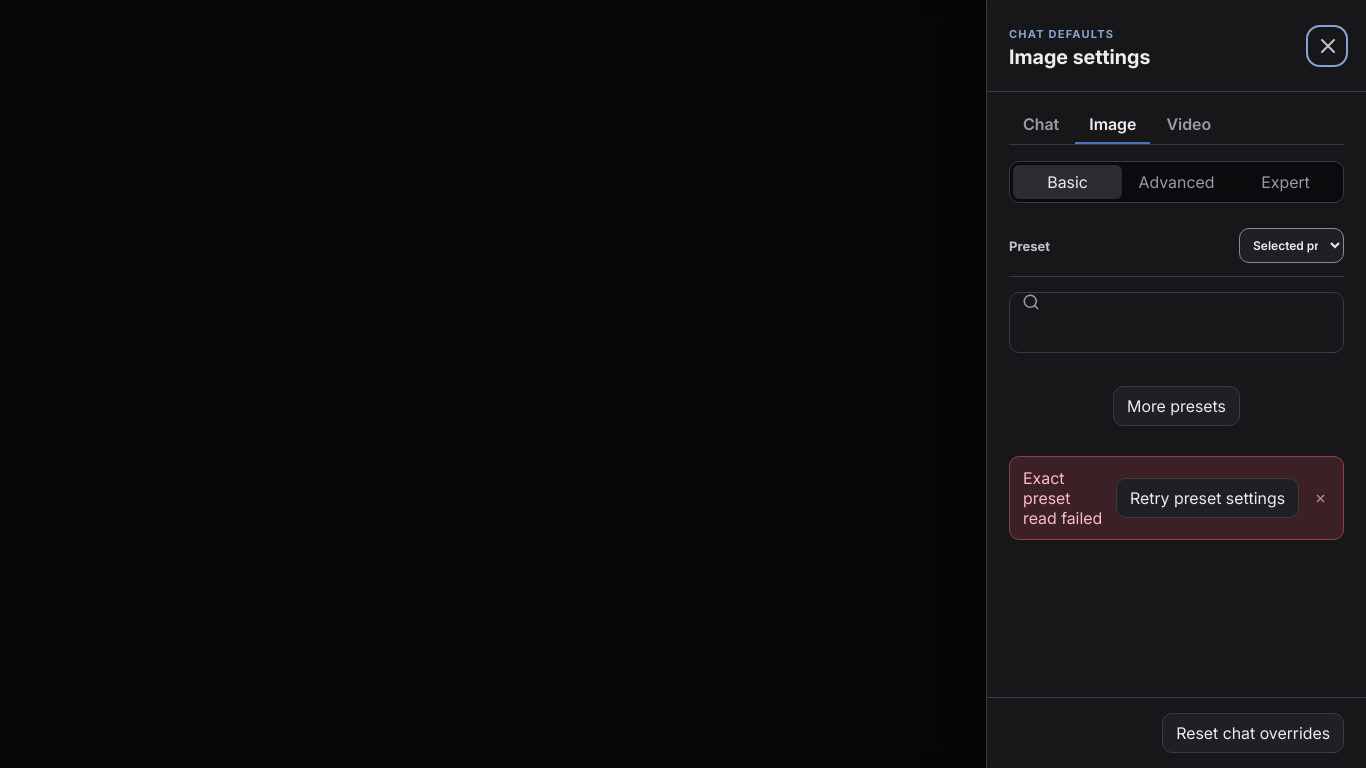
Test: keeps the selected identity through an exact-read failure and retry
Expected: the text "Exact preset read failed" is shown, [1023,468,1104,528]
Expected: the dropdown named "image preset" shows "Selected preset unavailable", [1239,228,1344,263]
Click the button "Retry preset settings" at coordinates (1207, 498), box [1116,478,1299,518]
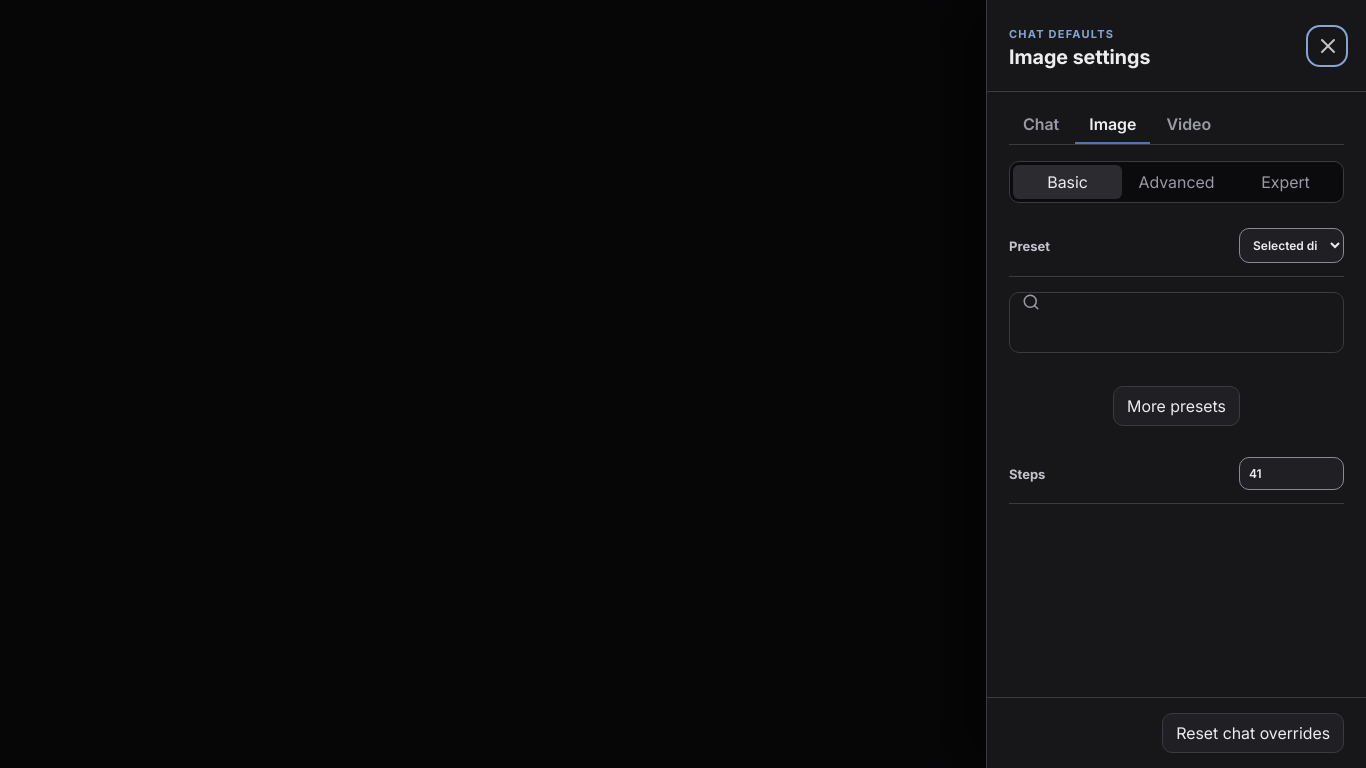
Expected: the number field labelled "Steps" holds "41", [1239,457,1344,490]
